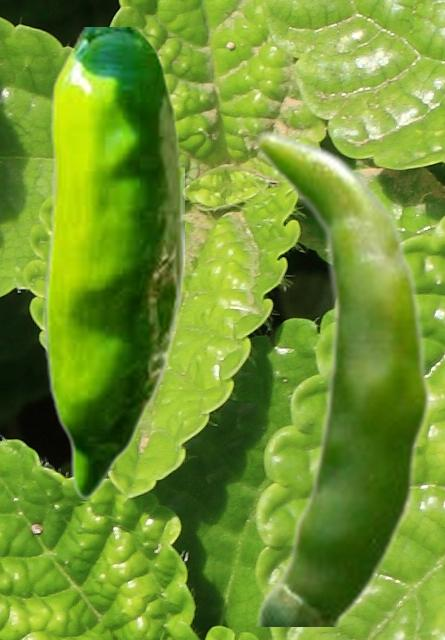green_chili: (251, 128, 433, 625), (43, 27, 183, 498)
